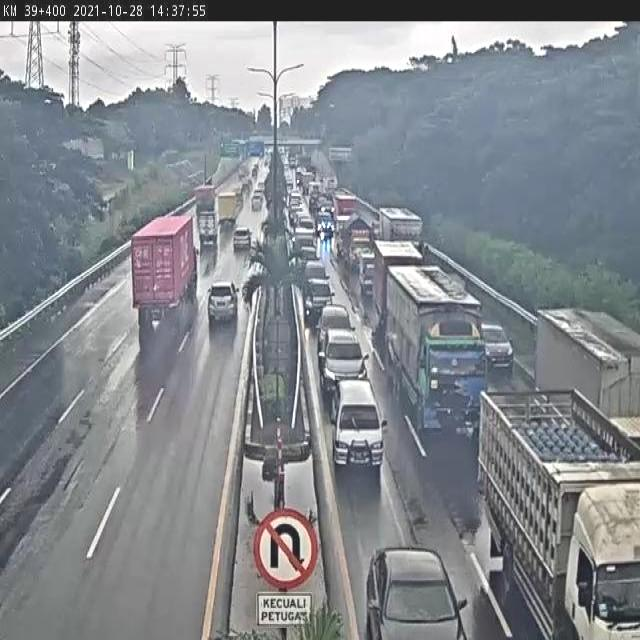Car: (364, 542, 469, 640), (318, 324, 371, 404), (316, 304, 356, 355), (481, 320, 515, 371), (301, 277, 336, 326), (206, 281, 238, 326), (302, 260, 331, 286), (296, 245, 323, 270), (314, 210, 335, 235), (232, 226, 252, 250), (320, 200, 334, 219), (251, 194, 263, 212)
Truck: (473, 383, 640, 640), (382, 262, 490, 438), (534, 304, 640, 446), (129, 214, 200, 324), (372, 238, 426, 334), (378, 207, 424, 257), (343, 218, 373, 272), (356, 250, 376, 298), (197, 210, 221, 247), (193, 183, 217, 215), (217, 191, 238, 225), (334, 192, 360, 216), (307, 180, 322, 203)
Van: (328, 379, 388, 472)
